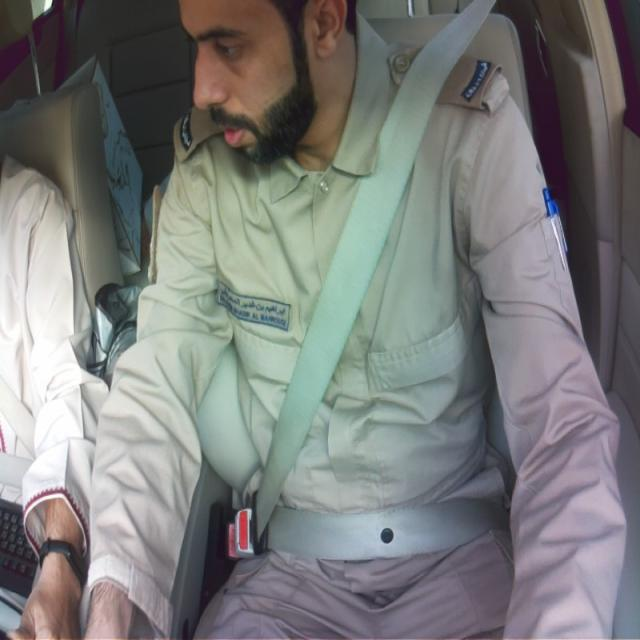seatbelt: (256, 0, 509, 561)
